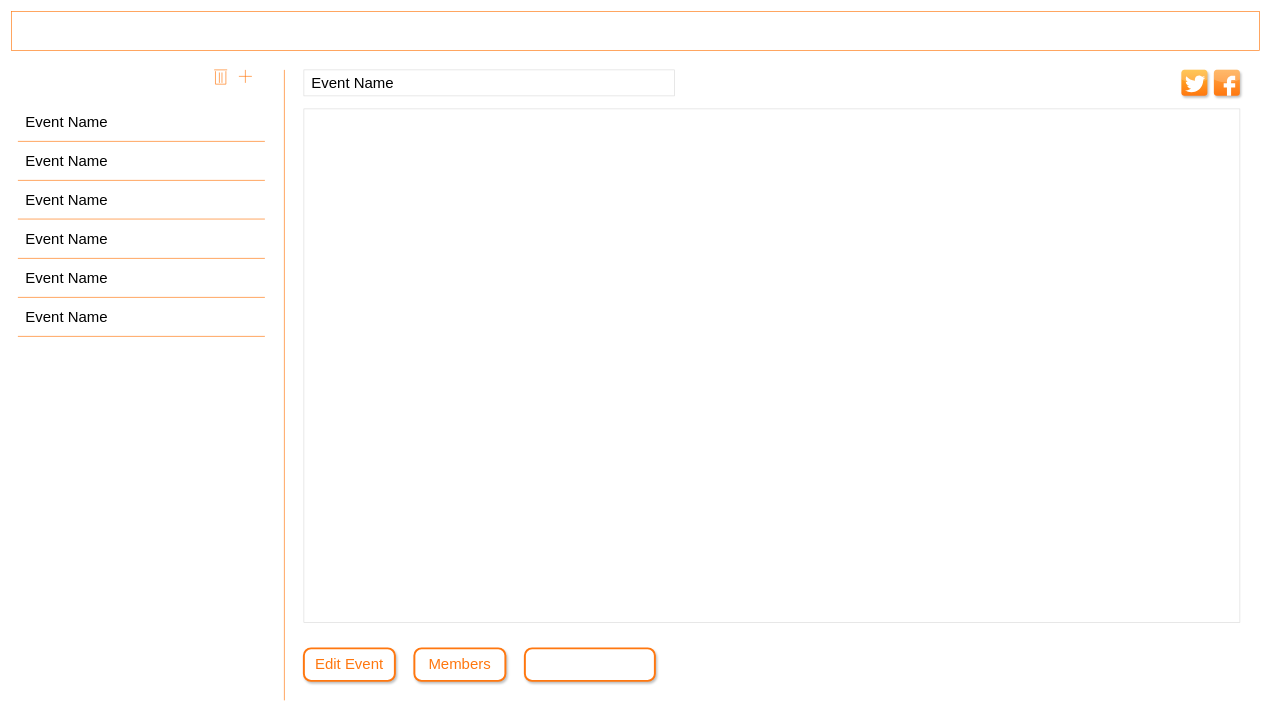
The diagram is 1271 pixels wide and 725 high, and some of its shapes have lost their labels. The centre of each missing label's shape, as x and y in pixels:
Email Members: pixel 590 665
Event Description: pixel 771 365
Navbar: pixel 635 30
